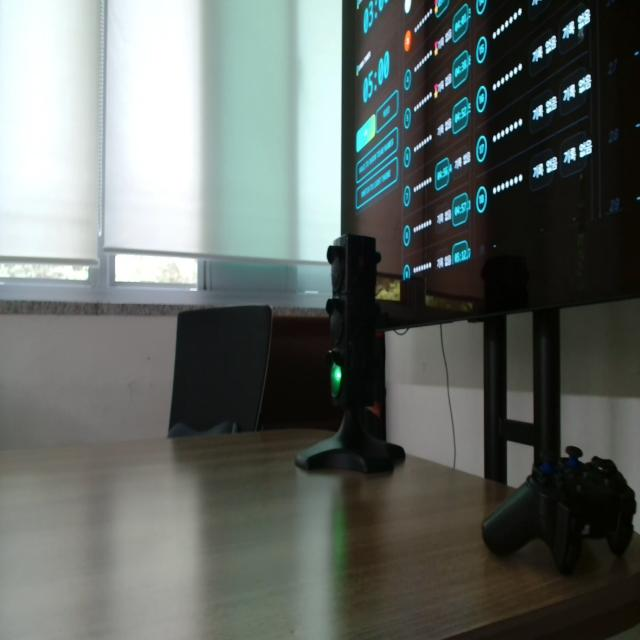green_light: (331, 364, 342, 397)
